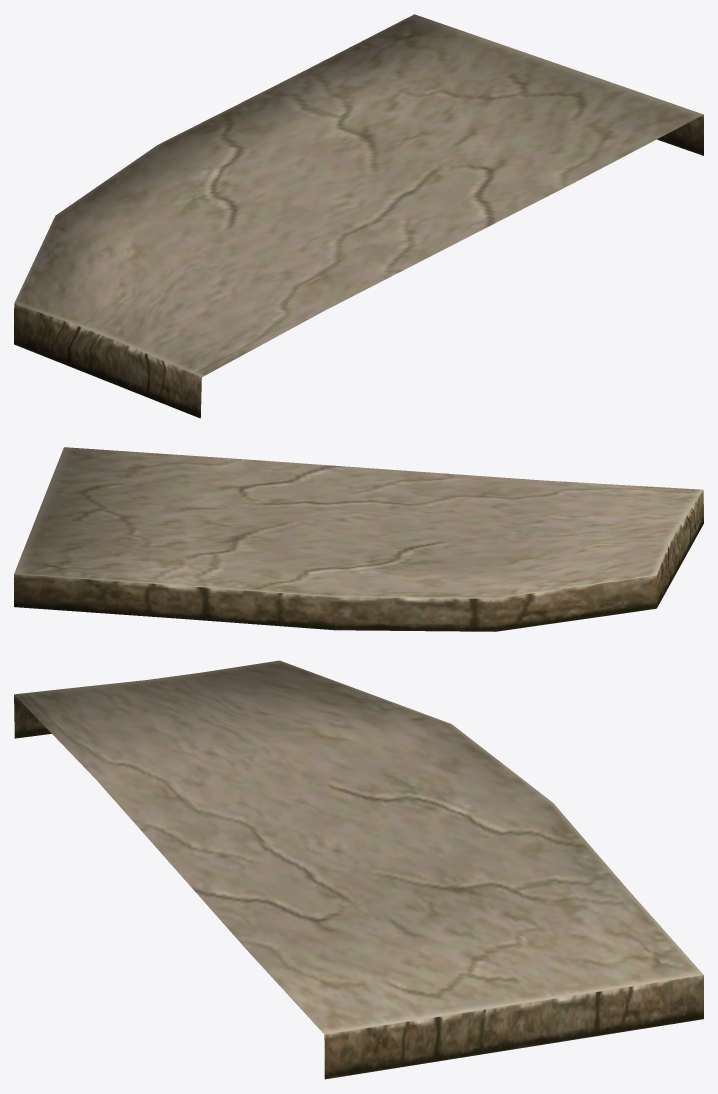
The model's file is HTOWN01_BAGROW2PORCH.fbx.
3 views of the same model, one above another, from view 1: azimuth 30°, elevation 25°; view 2: azimuth 150°, elevation 25°; view 3: azimuth 270°, elevation 25° (orthographic). The views are drawn at different scales.
Parts seen in each view (by area): view 1: HTOWN01_BAGROW2PORCH; view 2: HTOWN01_BAGROW2PORCH; view 3: HTOWN01_BAGROW2PORCH.
Part boxes in pixels (box(x1,y1,x2,y2)): HTOWN01_BAGROW2PORCH: box(14, 14, 703, 418); HTOWN01_BAGROW2PORCH: box(14, 447, 703, 631); HTOWN01_BAGROW2PORCH: box(14, 660, 703, 1079).
Size of the model in its own units: 56633 by 3156 by 44066.
2 materials, 2 textured.
